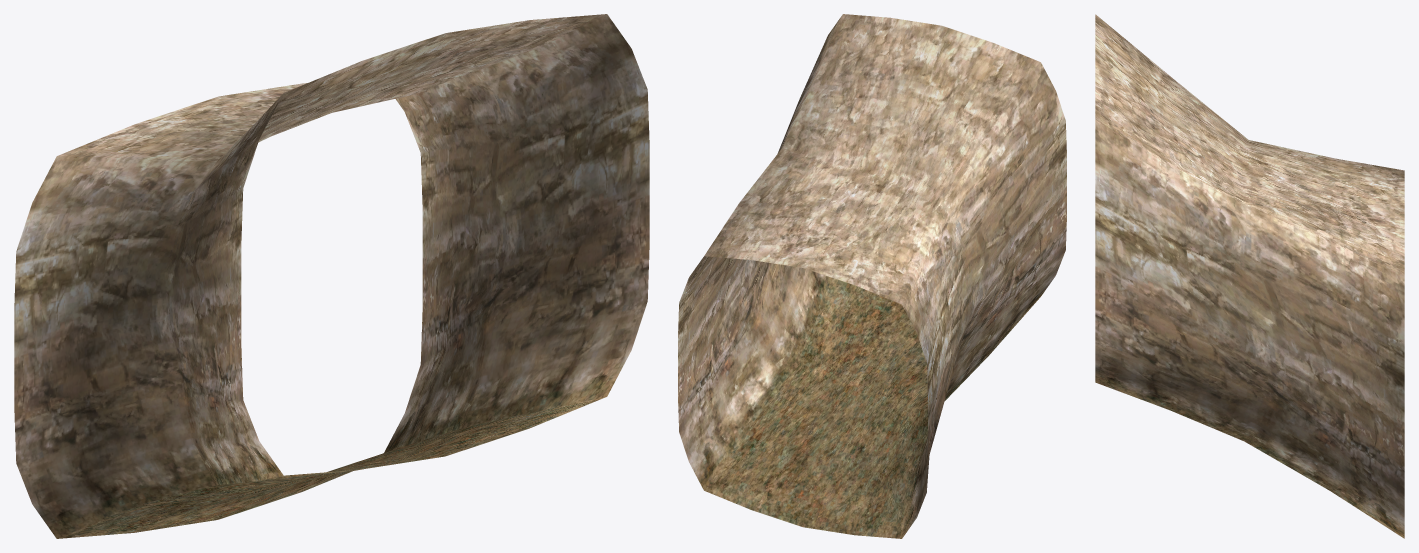
The model's file is thm_all_cave_s03_mirror_r13_mesh_r13.fbx.
The picture shows the model from 3 angles, left to right: view 1: azimuth 30°, elevation 25°; view 2: azimuth 150°, elevation 25°; view 3: azimuth 270°, elevation 25°; orthographic projection. The views are drawn at different scales.
Parts seen in each view (by area): view 1: mesh_node; view 2: mesh_node; view 3: mesh_node.
Boxes of the visible parts, left/top/right/bottom form: mesh_node: left=14, top=14, right=649, bottom=538; mesh_node: left=678, top=14, right=1066, bottom=538; mesh_node: left=1095, top=14, right=1404, bottom=538.
Bounding box in the file's own units: 8 × 12.23 × 7.71.
